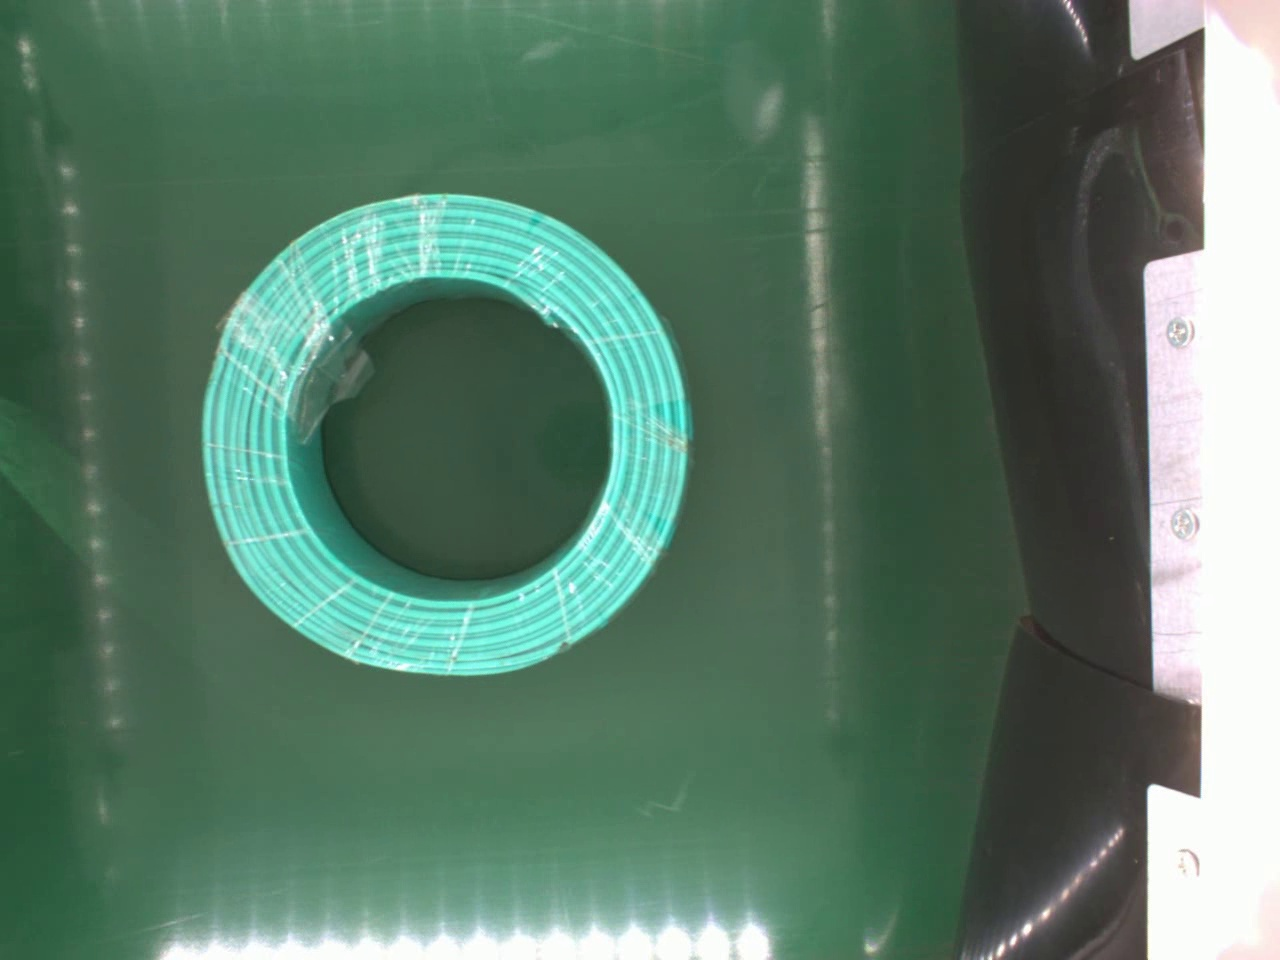green: (200, 188, 691, 682)
